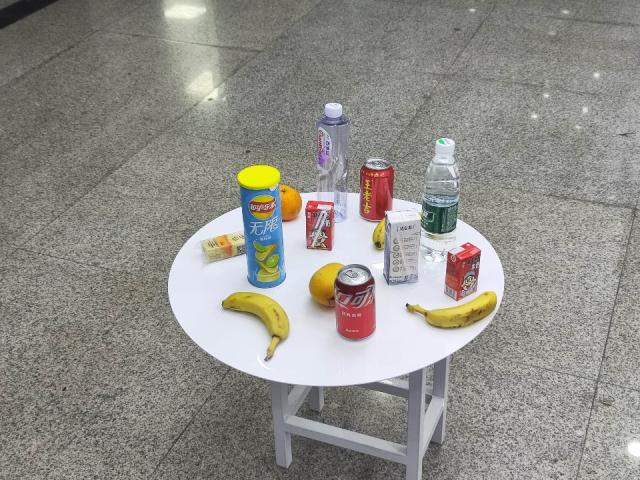Canned_drinks: (336, 264, 382, 339), (359, 153, 396, 216)
bottle: (422, 130, 454, 258), (313, 98, 350, 203)
drink_box: (385, 212, 425, 283), (444, 245, 484, 294), (306, 197, 340, 254)
